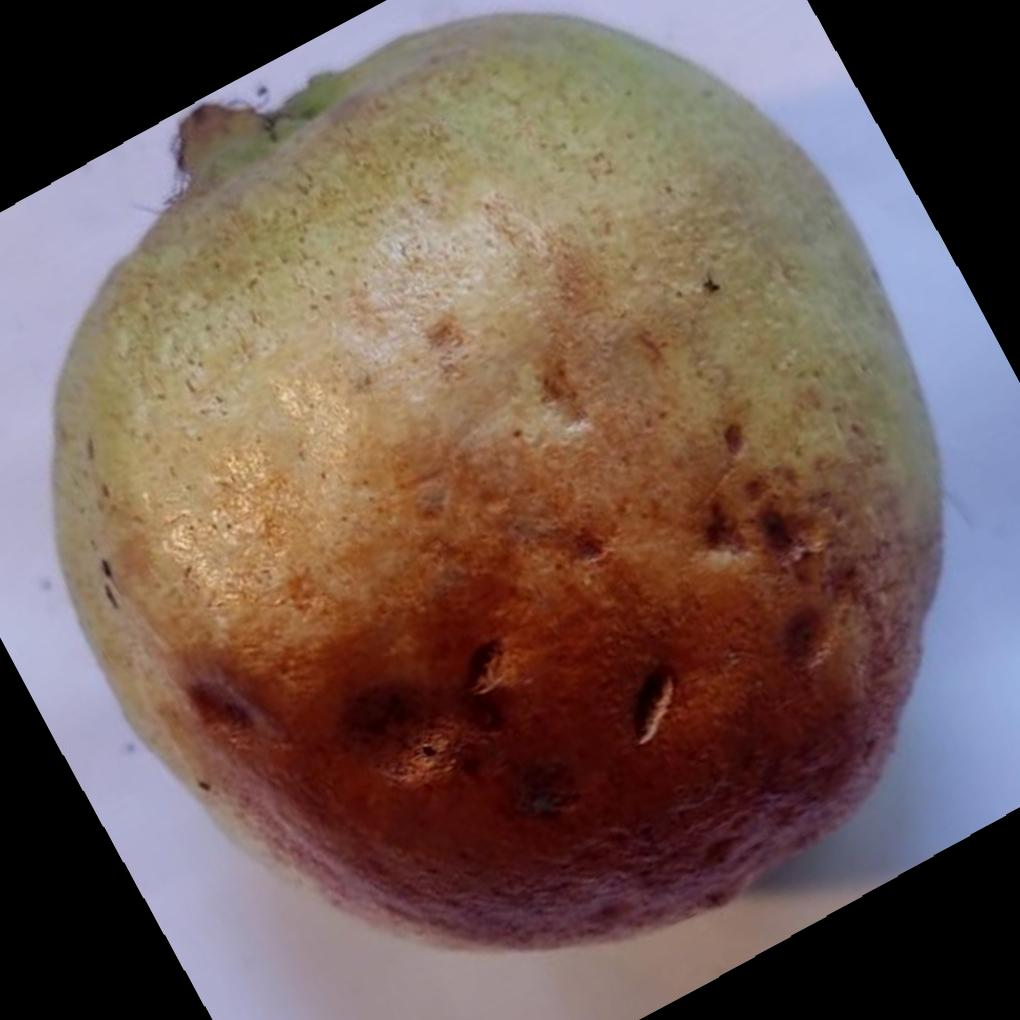FreshOrange: (50, 7, 949, 953)
